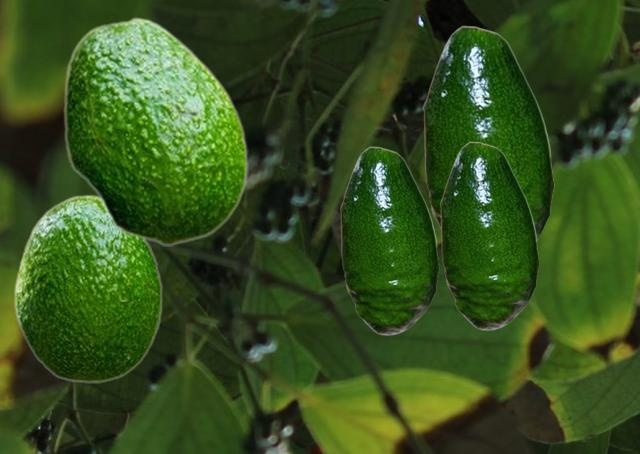avocado: (62, 16, 247, 245), (423, 25, 553, 242), (14, 194, 162, 382), (340, 146, 438, 334), (440, 141, 538, 329)
